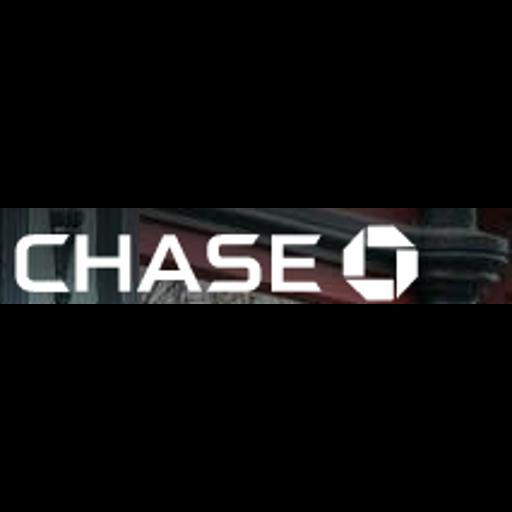Chase Personal Banking: (0, 208, 512, 304)
